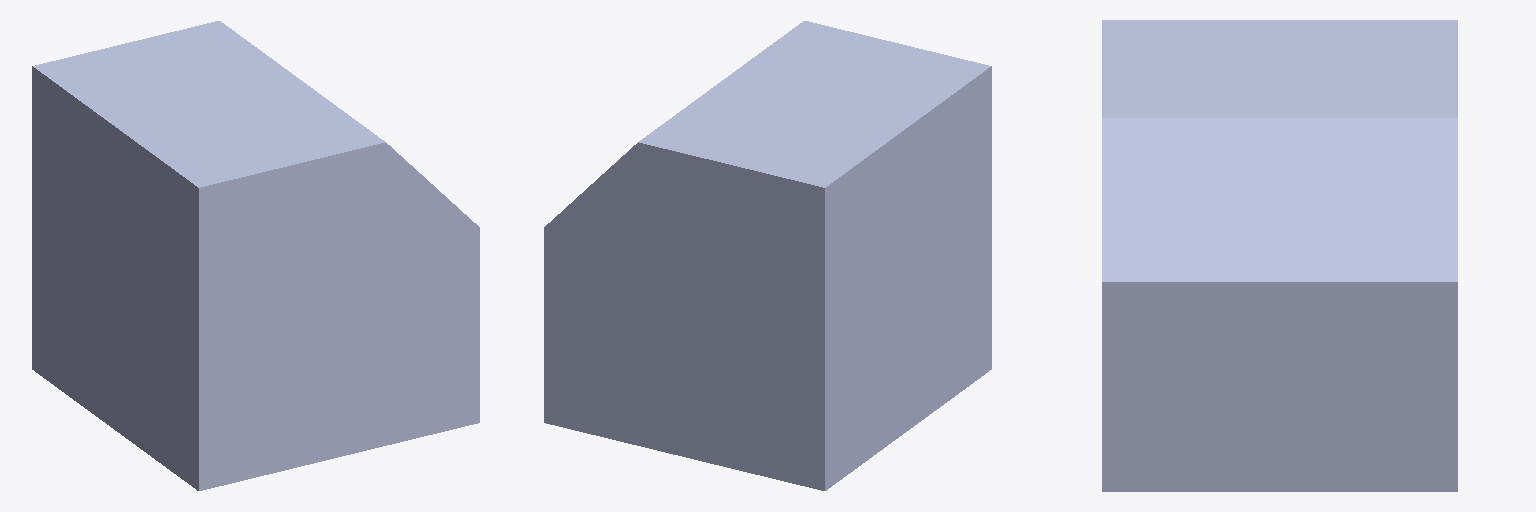
robot.urdf — urdf_tutorial:
<?xml version="1.0" encoding="utf-8"?>
<!-- This URDF was automatically created by SolidWorks to URDF Exporter! Originally created by [author] ([email redacted]) 
     Commit Version: 1.6.0-1-g15f4949  Build Version: 1.6.7594.29634
     For more information, please see http://wiki.ros.org/sw_urdf_exporter -->
<robot
  name="urdf_tutorial">
  <link
    name="base_link">
    <inertial>
      <origin
        xyz="0.0713333333333333 0.077 0.0737809523809524"
        rpy="0 0 0" />
      <mass
        value="3.36875" />
      <inertia
        ixx="0.0130027802361111"
        ixy="-3.07649425050656E-19"
        ixz="0.00076059423611111"
        iyy="0.0122632059305556"
        iyz="5.04024938518558E-20"
        izz="0.0125759715277778" />
    </inertial>
    <visual>
      <origin
        xyz="0 0 0"
        rpy="0 0 0" />
      <geometry>
        <mesh
          filename="package://urdf_tutorial/meshes/base_link.STL" />
      </geometry>
      <material
        name="">
        <color
          rgba="0.792156862745098 0.819607843137255 0.933333333333333 1" />
      </material>
    </visual>
    <collision>
      <origin
        xyz="0 0 0"
        rpy="0 0 0" />
      <geometry>
        <mesh
          filename="package://urdf_tutorial/meshes/base_link.STL" />
      </geometry>
    </collision>
  </link>
</robot>

--- Facts derived from the render (not from the file) ---
3 views of the same robot in one strip: view 1: azimuth 30°, elevation 25°; view 2: azimuth 150°, elevation 25°; view 3: azimuth 270°, elevation 25° (orthographic).
Robot: urdf_tutorial — 1 links, 0 joints (none); root link base_link; default pose: every joint at zero.
Links seen in each view (by area): view 1: base_link; view 2: base_link; view 3: base_link.
Link boxes in pixels (box(x1,y1,x2,y2)): base_link: box(32, 21, 479, 490); base_link: box(544, 21, 991, 490); base_link: box(1102, 20, 1457, 491).
Size in the robot's own frame: 0.15 by 0.154 by 0.155 metres.
Meshes: 1 distinct files referenced, 1 mesh visuals loaded (1 binary STL).